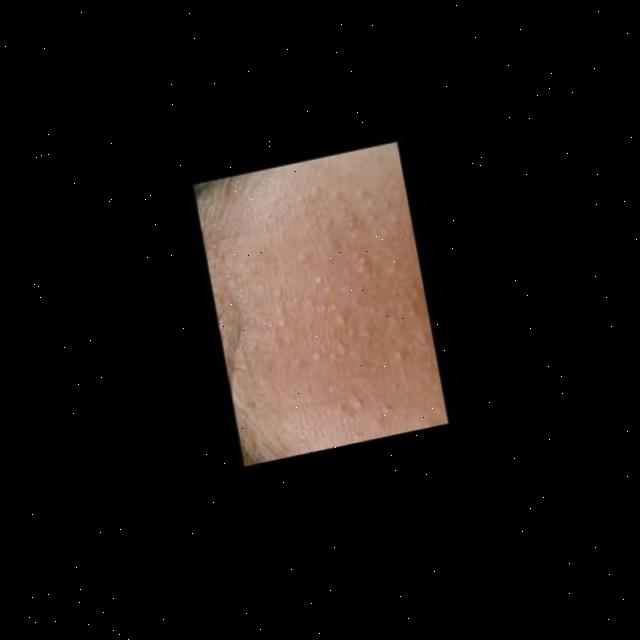Acne: (235, 172, 445, 450)
